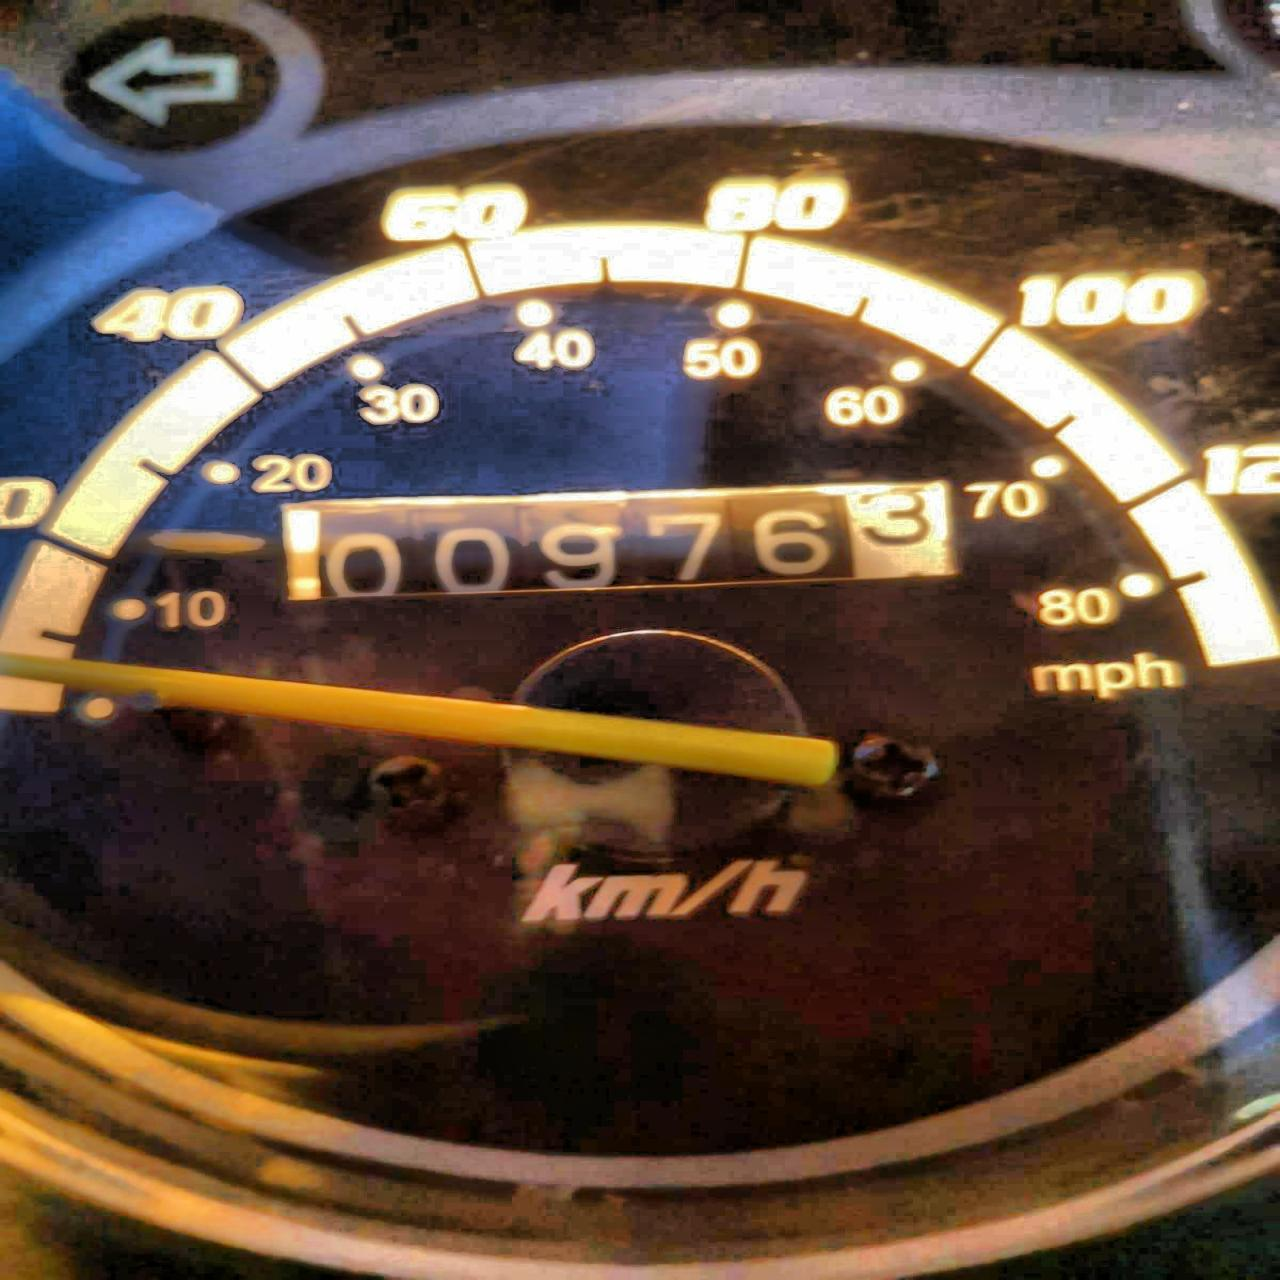0: (321, 526, 411, 604), (429, 523, 519, 595)
3: (851, 483, 934, 553)
6: (750, 504, 832, 581)
7: (642, 505, 727, 584)
9: (538, 517, 618, 594)
odometer: (267, 475, 968, 610)
